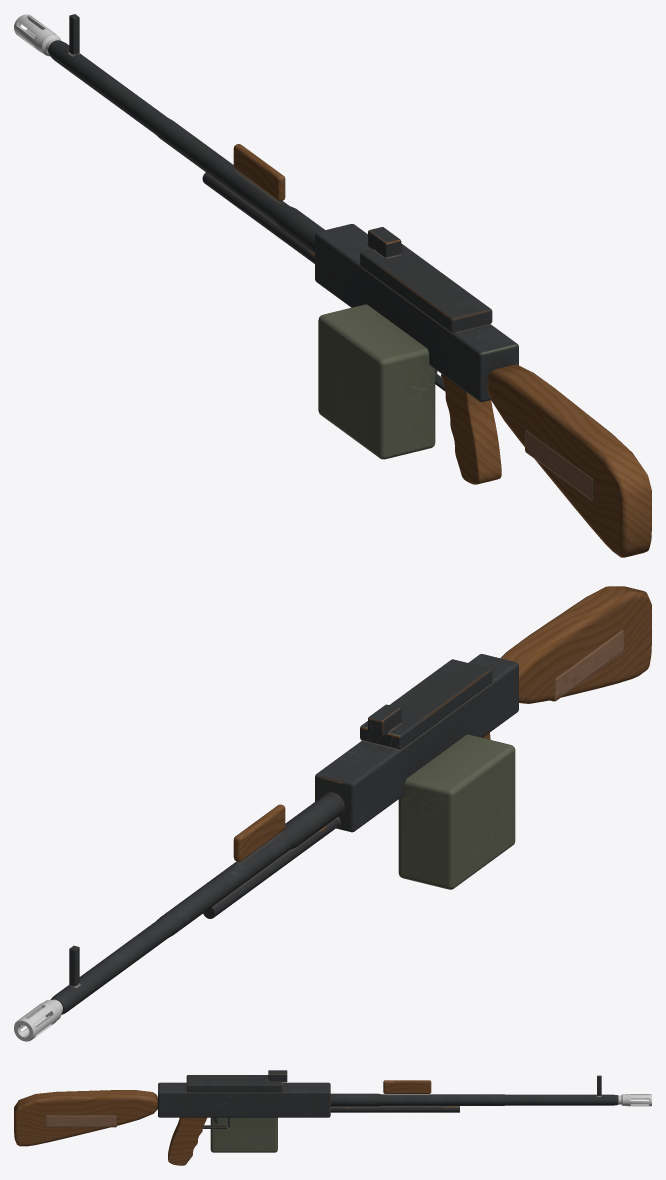
File: pkm.gltf
The picture shows the model from 3 angles, top to bottom: view 1: azimuth 30°, elevation 25°; view 2: azimuth 150°, elevation 25°; view 3: azimuth 270°, elevation 25°; orthographic projection. The views are drawn at different scales.
Visible parts, largest first — view 1: Frame, Stock, Mag_body, FlashHider; view 2: Frame, Mag_body, Stock, FlashHider; view 3: Frame, Stock, Mag_body, FlashHider.
Boxes of the visible parts, x1,y1,x2,y2 form: Frame: [48, 14, 518, 484]; Stock: [487, 364, 651, 557]; Mag_body: [318, 304, 435, 459]; FlashHider: [14, 14, 61, 56]; Frame: [50, 654, 518, 1014]; Mag_body: [398, 734, 515, 889]; Stock: [500, 586, 651, 703]; FlashHider: [14, 999, 62, 1041]; Frame: [158, 1070, 618, 1165]; Stock: [14, 1090, 157, 1146]; Mag_body: [210, 1117, 277, 1152]; FlashHider: [618, 1094, 651, 1106].
Bounding box in the file's own units: 0.111 × 0.2099 × 1.33.
